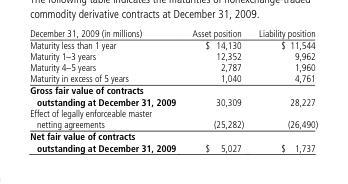table: (29, 28, 317, 152)
table column: (29, 28, 183, 152), (183, 28, 250, 152), (250, 28, 317, 152)
table column header: (29, 28, 317, 39)
table row: (29, 84, 317, 107), (29, 107, 317, 130), (29, 130, 317, 152), (29, 50, 317, 62), (29, 28, 317, 39), (29, 39, 317, 50), (29, 62, 317, 73), (29, 73, 317, 84)
